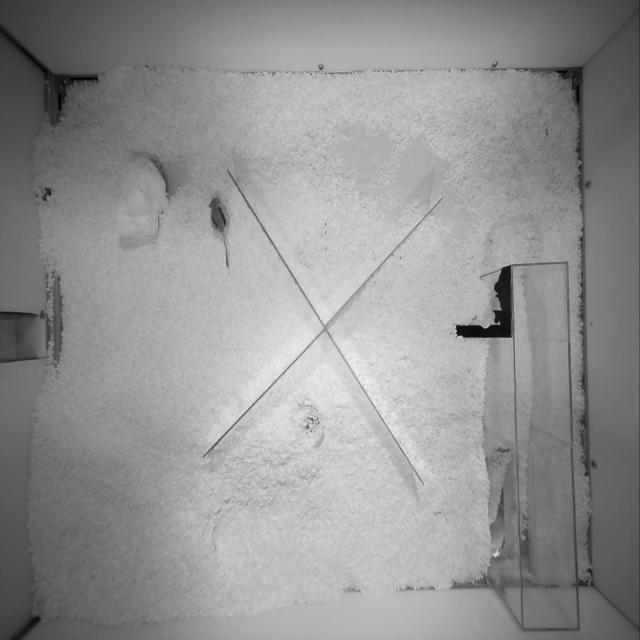pup_v_stripe: (210, 196, 228, 268)
